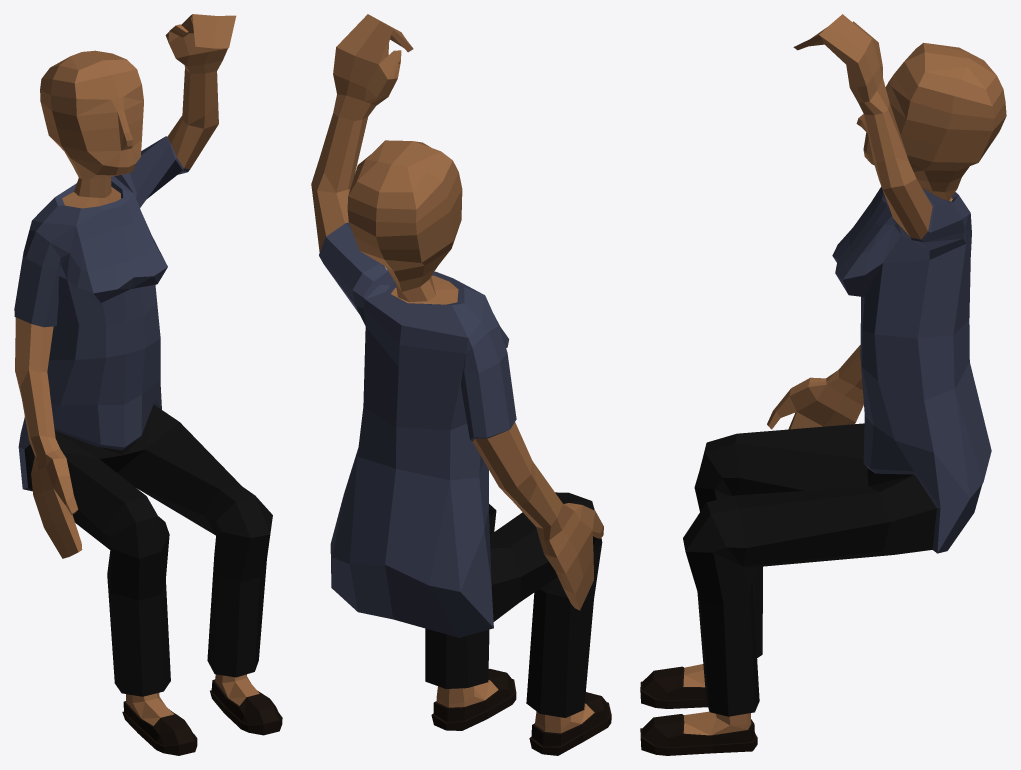
Rendered from Female_Sitting_Cheering.obj.
3 renders of one model, left to right at view 1: azimuth 30°, elevation 25°; view 2: azimuth 150°, elevation 25°; view 3: azimuth 270°, elevation 25°, orthographic. The views are drawn at different scales.
Parts seen in each view (by area): view 1: Female_Sitting_Cheering_Cylinder.006; view 2: Female_Sitting_Cheering_Cylinder.006; view 3: Female_Sitting_Cheering_Cylinder.006.
Boxes of the visible parts, left/top/right/bottom form: Female_Sitting_Cheering_Cylinder.006: left=14, top=14, right=282, bottom=755; Female_Sitting_Cheering_Cylinder.006: left=311, top=14, right=611, bottom=755; Female_Sitting_Cheering_Cylinder.006: left=640, top=14, right=1006, bottom=755.
Size of the model in its own units: 1.08 by 3.26 by 1.47.
